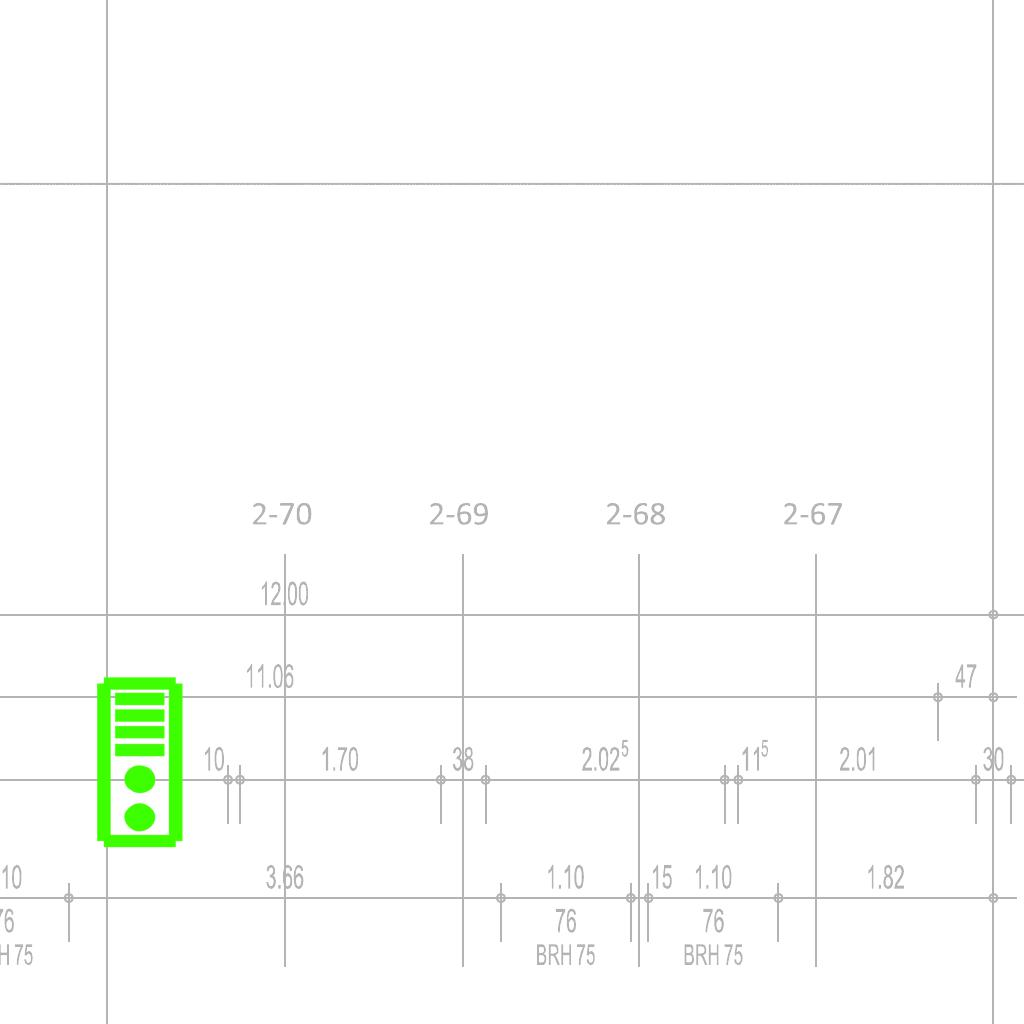Gegensprechanlage_mit_Video: (94, 675, 189, 851)
